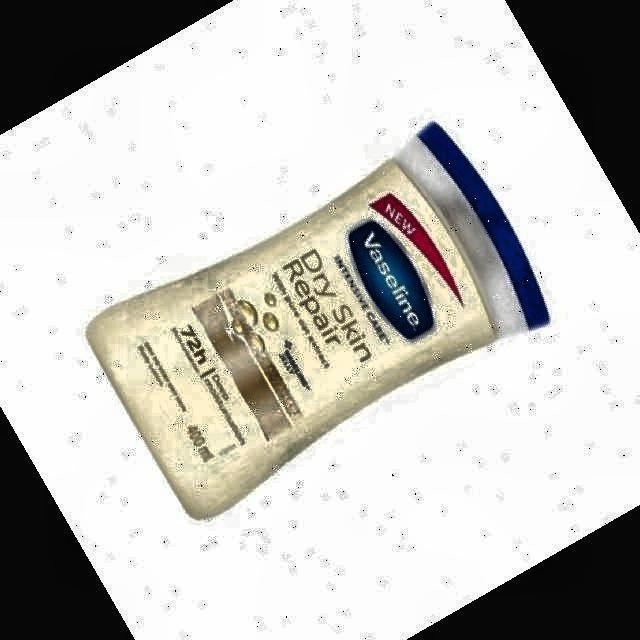plastic: (90, 124, 549, 517)
